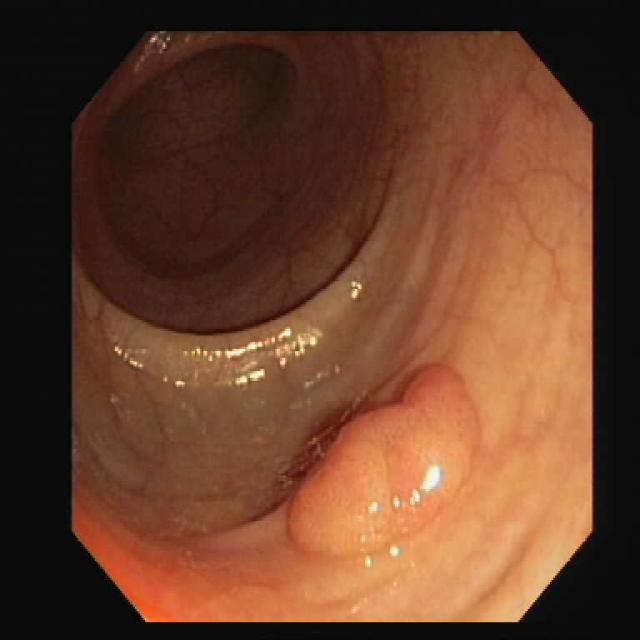tumor: (290, 373, 477, 553)
